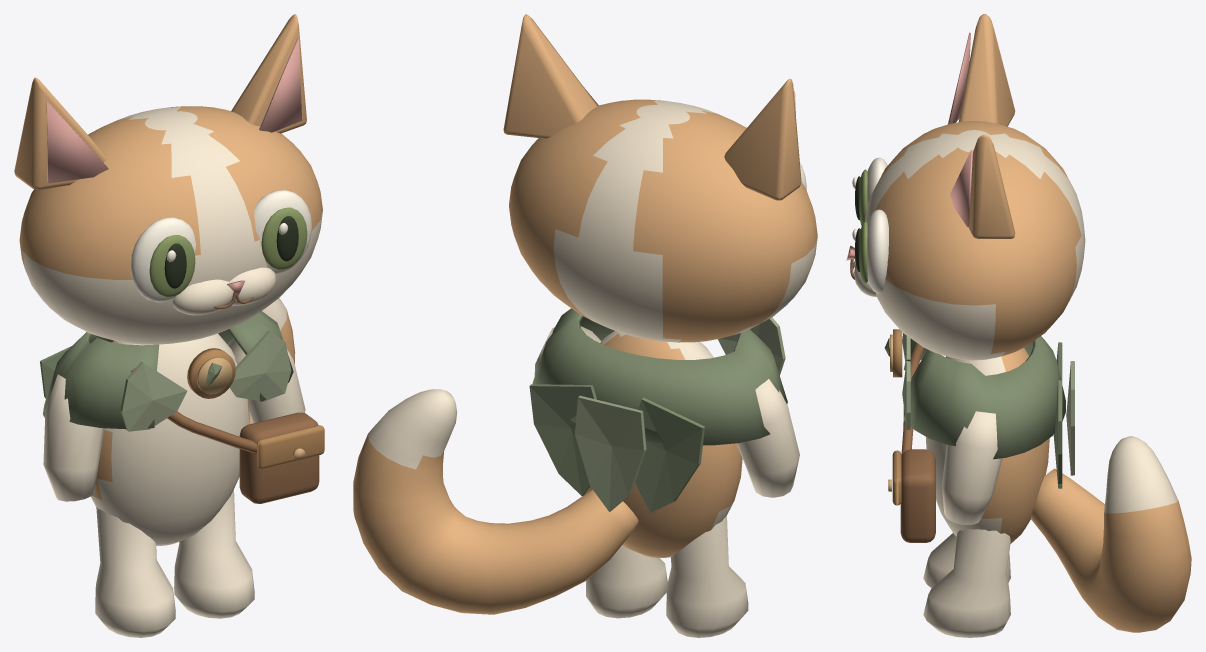
File: companion_cat.glb
3 views of the same model, side by side, from view 1: azimuth 30°, elevation 25°; view 2: azimuth 150°, elevation 25°; view 3: azimuth 270°, elevation 25° (orthographic). The views are drawn at different scales.
Visible parts, largest first — view 1: Head_Surface, Body, Leaf_Cape, Leg_L, Leg_R, Satchel, Arm_L_Surface, Eye_L, Eye_R, Ear_L, Ear_R, Inner_Ear_L (+6 smaller); view 2: Head_Surface, Leaf_Cape, Tail, Body, Leg_L, Ear_R, Ear_L, Arm_L_Surface, Leg_R; view 3: Head_Surface, Tail, Leaf_Cape, Leg_R, Body, Arm_R_Surface, Ear_L, Satchel, Ear_R, Eye_R, Leg_L, Eye_L (+4 smaller).
Part boxes in pixels (<box>): Head_Surface: <box>19,106,322,344</box>; Body: <box>91,333,249,545</box>; Leaf_Cape: <box>40,311,293,431</box>; Leg_L: <box>95,507,175,637</box>; Leg_R: <box>174,489,254,618</box>; Satchel: <box>239,412,324,503</box>; Arm_L_Surface: <box>43,374,104,501</box>; Eye_L: <box>130,217,195,302</box>; Eye_R: <box>254,190,311,274</box>; Ear_L: <box>14,77,107,189</box>; Ear_R: <box>231,14,306,133</box>; Inner_Ear_L: <box>46,101,108,183</box>; Head_Surface: <box>509,99,817,342</box>; Leaf_Cape: <box>529,308,787,512</box>; Tail: <box>353,389,638,614</box>; Body: <box>584,331,742,557</box>; Leg_L: <box>666,515,748,637</box>; Ear_R: <box>503,14,597,138</box>; Ear_L: <box>724,78,801,200</box>; Arm_L_Surface: <box>736,379,799,497</box>; Leg_R: <box>586,545,667,618</box>; Head_Surface: <box>865,121,1085,360</box>; Tail: <box>1031,436,1191,632</box>; Leaf_Cape: <box>902,333,1074,488</box>; Leg_R: <box>923,528,1010,637</box>; Body: <box>926,348,1049,543</box>; Arm_R_Surface: <box>942,411,1002,524</box>; Ear_L: <box>958,14,1015,126</box>; Satchel: <box>888,449,935,542</box>; Ear_R: <box>968,134,1015,238</box>; Eye_R: <box>852,209,888,293</box>; Leg_L: <box>923,533,1010,588</box>; Eye_L: <box>852,157,887,225</box>.
Size of the model in its own units: 0.7596 by 1.17 by 0.686.
